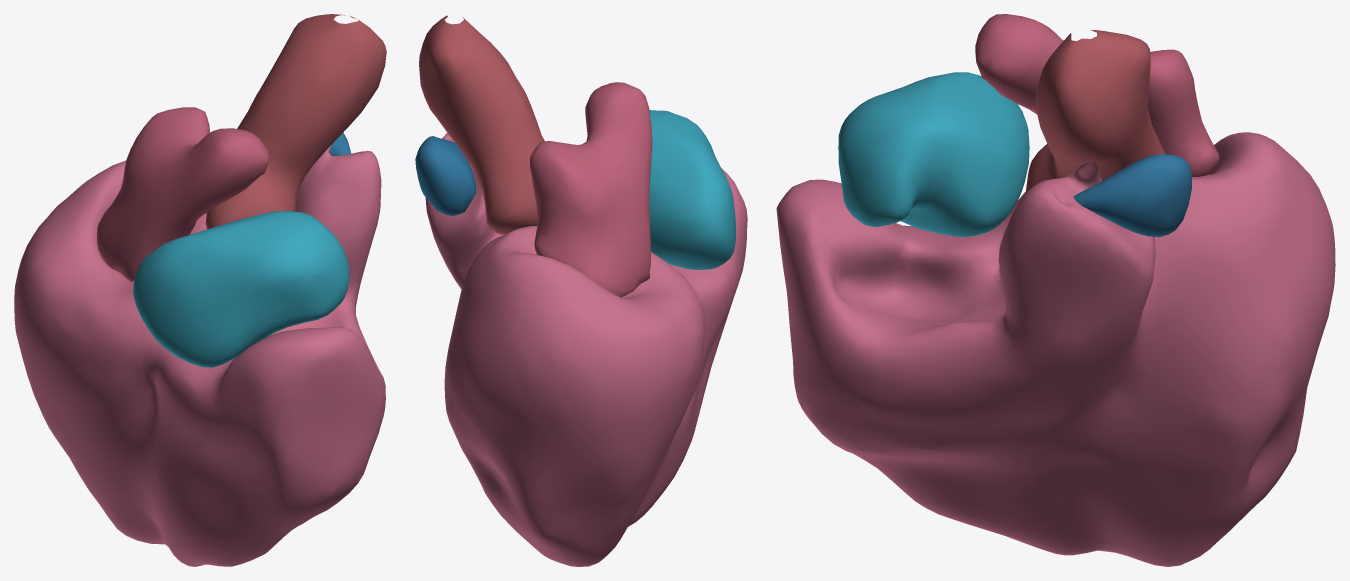
The model's file is frame_42.glb.
The picture shows the model from 3 angles, left to right: view 1: azimuth 30°, elevation 25°; view 2: azimuth 150°, elevation 25°; view 3: azimuth 270°, elevation 25°; orthographic projection. The views are drawn at different scales.
Parts seen in each view (by area): view 1: Renderer Node; view 2: Renderer Node; view 3: Renderer Node.
Part boxes in pixels (<box>): Renderer Node: <box>14,14,386,566</box>; Renderer Node: <box>415,15,747,566</box>; Renderer Node: <box>776,14,1335,566</box>.
Bounding box in the file's own units: 102 × 158 × 129.
